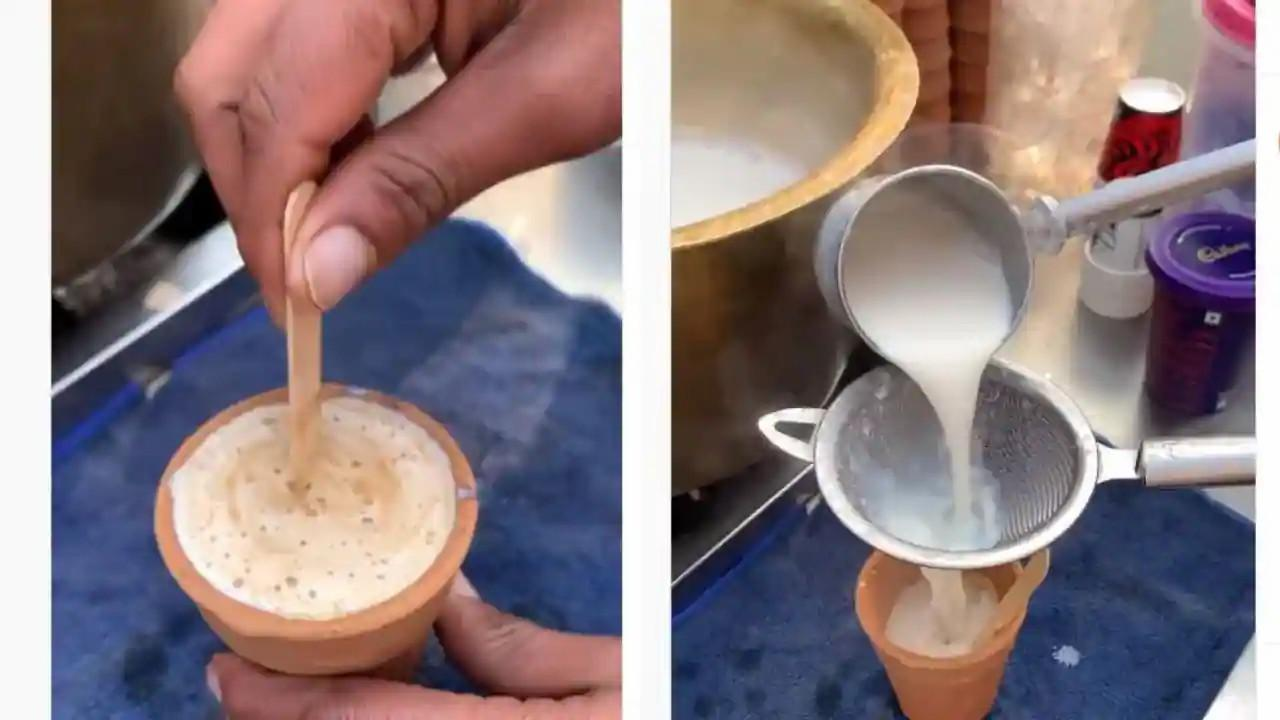Chai: (173, 393, 459, 611), (844, 193, 1008, 536), (885, 573, 999, 647)
